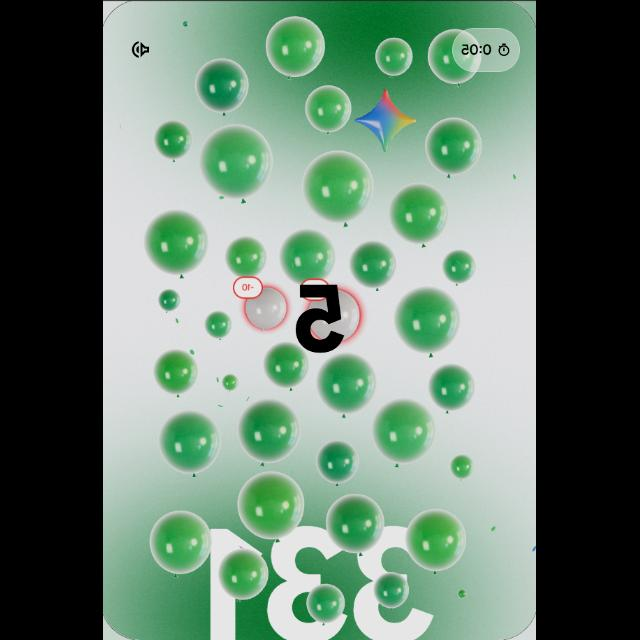gemini: (356, 88, 418, 152)
hazard: (300, 280, 370, 350), (234, 276, 290, 330), (234, 276, 262, 298)
safe: (200, 124, 274, 198), (234, 472, 306, 544), (304, 150, 374, 222), (397, 286, 463, 352), (373, 399, 437, 465), (237, 398, 301, 464), (145, 209, 209, 275), (149, 509, 213, 575), (159, 410, 221, 476), (407, 508, 469, 572), (317, 352, 377, 414), (327, 493, 387, 555), (391, 182, 451, 242), (427, 116, 485, 176), (280, 228, 338, 284), (268, 17, 324, 75), (196, 56, 250, 114), (219, 547, 271, 601), (429, 29, 479, 85), (152, 348, 198, 400), (429, 362, 476, 412), (306, 85, 354, 133), (264, 340, 310, 388), (352, 240, 398, 288), (317, 439, 361, 485), (226, 236, 268, 278), (307, 583, 347, 625), (376, 36, 414, 78), (154, 120, 193, 160), (375, 570, 411, 610), (444, 249, 478, 285), (205, 311, 233, 339), (451, 454, 475, 480), (159, 289, 181, 311), (222, 374, 240, 391), (458, 588, 468, 598)
